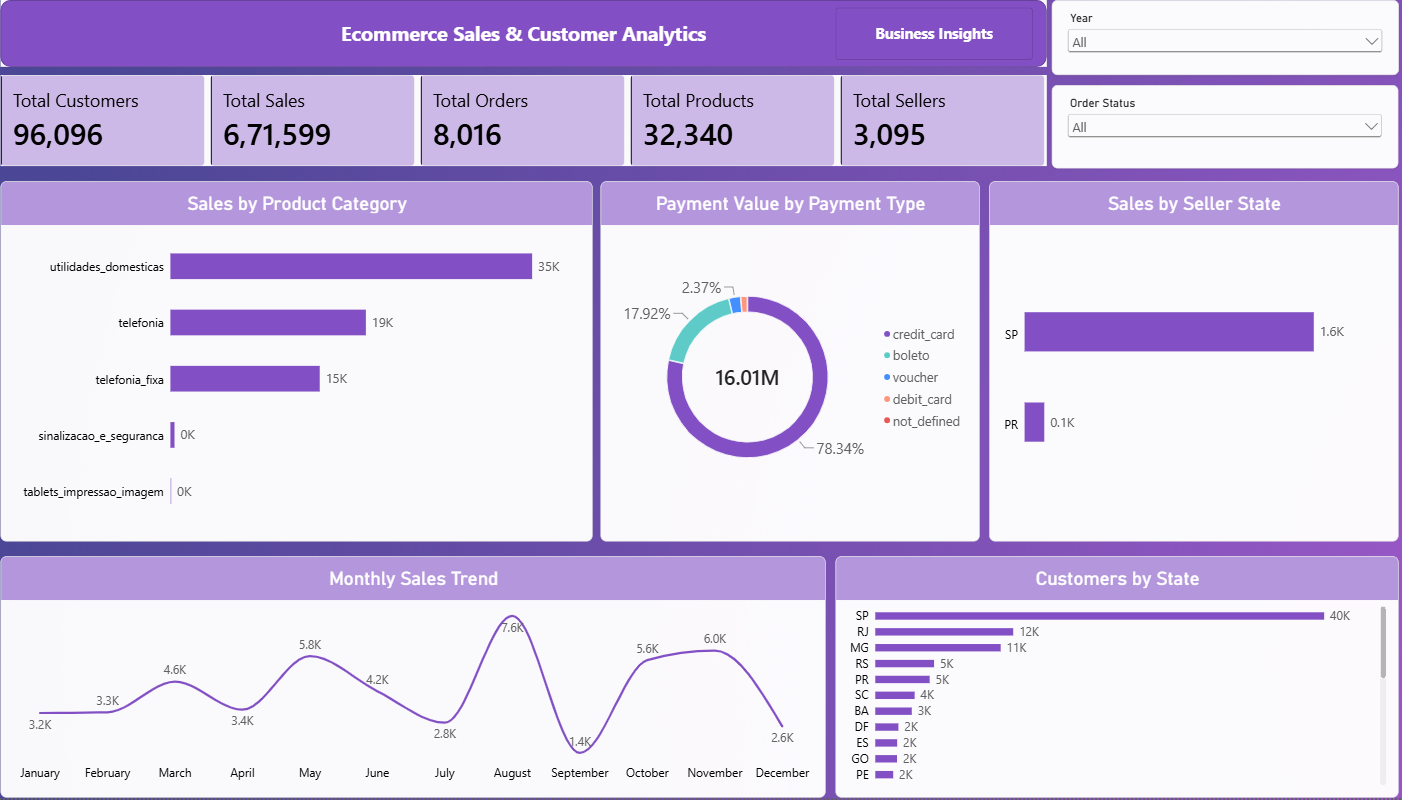

The dashboard page shown, as its layout file describes it:
{"tool":"powerbi","page":{"name":"Dashboard","canvas":[1920,1080],"ordinal":0},"visuals":[{"type":"cardVisual","fields":{"Data":["ecommerce_analytics olist_customers_dataset.total customers","ecommerce_analytics olist_customers_dataset.Total sales","ecommerce_analytics olist_customers_dataset.Total Orders","ecommerce_analytics olist_customers_dataset.Total Products","ecommerce_analytics olist_customers_dataset.total sellers"]},"box":[16.6,101.5,1414.9,123.6],"z":0},{"type":"shape","box":[16.6,0,1414.9,90.4],"z":1},{"type":"barChart","title":"Sales by Product Category","fields":{"Category":["ecommerce_analytics olist_products_dataset.product_category_name"],"Y":["ecommerce_analytics olist_customers_dataset.Total sales"]},"box":[16.6,245.4,800.6,487],"z":2},{"type":"donutChart","title":"Payment Value by Payment Type","fields":{"Category":["ecommerce_analytics olist_order_payments_dataset.payment_type"],"Y":["ecommerce_analytics olist_customers_dataset.Total payment"]},"box":[828.3,245.4,512.8,487],"z":3},{"type":"lineChart","title":" Monthly Sales Trend","fields":{"Category":["ecommerce_analytics olist_orders_dataset.order_purchase_timestamp.Variation.Date Hierarchy.Month"],"Y":["ecommerce_analytics olist_customers_dataset.Total sales"]},"box":[16.6,752.7,1116.1,326.5],"z":4},{"type":"barChart","title":" Customers by State","fields":{"Category":["ecommerce_analytics olist_customers_dataset.customer_state"],"Y":["ecommerce_analytics olist_customers_dataset.total customers"]},"box":[1145.6,752.7,761.9,326.5],"z":5},{"type":"barChart","title":"Sales by Seller State","fields":{"Category":["ecommerce_analytics olist_sellers_dataset.seller_state"],"Y":["ecommerce_analytics olist_customers_dataset.Total sales"]},"box":[1354,245.4,553.4,487],"z":6},{"type":"slicer","fields":{"Values":["ecommerce_analytics olist_orders_dataset.order_status"]},"box":[1438.9,114.4,468.6,112.5],"z":7},{"type":"slicer","fields":{"Values":["ecommerce_analytics olist_orders_dataset.order_purchase_timestamp.Variation.Date Hierarchy.Year"]},"box":[1438.5,0,469.2,101.9],"z":8},{"type":"pageNavigator","box":[1146.2,9.6,267.3,71.2],"z":9}]}

Visuals, with their boxes in screenshot pixels (x1, y1, x2, y2), scaled from the page's 1920x1080 canvas onto the 1402x800 screenshot:
cardVisual - ecommerce_analytics olist_customers_dataset.total customers x ecommerce_analytics olist_customers_dataset.Total sales: rect(12, 75, 1045, 167)
shape: rect(12, 0, 1045, 67)
"Sales by Product Category" barChart: rect(12, 182, 597, 543)
"Payment Value by Payment Type" donutChart: rect(605, 182, 979, 543)
" Monthly Sales Trend" lineChart: rect(12, 558, 827, 799)
" Customers by State" barChart: rect(837, 558, 1393, 799)
"Sales by Seller State" barChart: rect(989, 182, 1393, 543)
slicer - ecommerce_analytics olist_orders_dataset.order_status: rect(1051, 85, 1393, 168)
slicer - ecommerce_analytics olist_orders_dataset.order_purchase_timestamp.Variation.Date Hierarchy.Year: rect(1050, 0, 1393, 75)
pageNavigator: rect(837, 7, 1032, 60)
